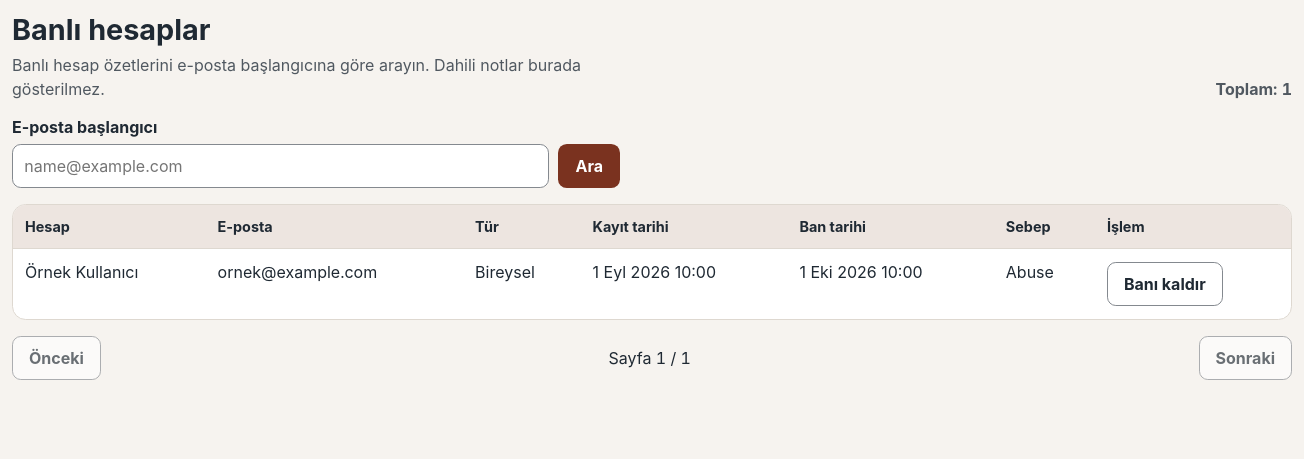
Test case: Admin banned accounts › reports a failed unban without losing the row
Click the button with aria-label "ornek@example.com hesabının banını kaldır". click: point(1165, 284)
box: [1107,262,1223,306]
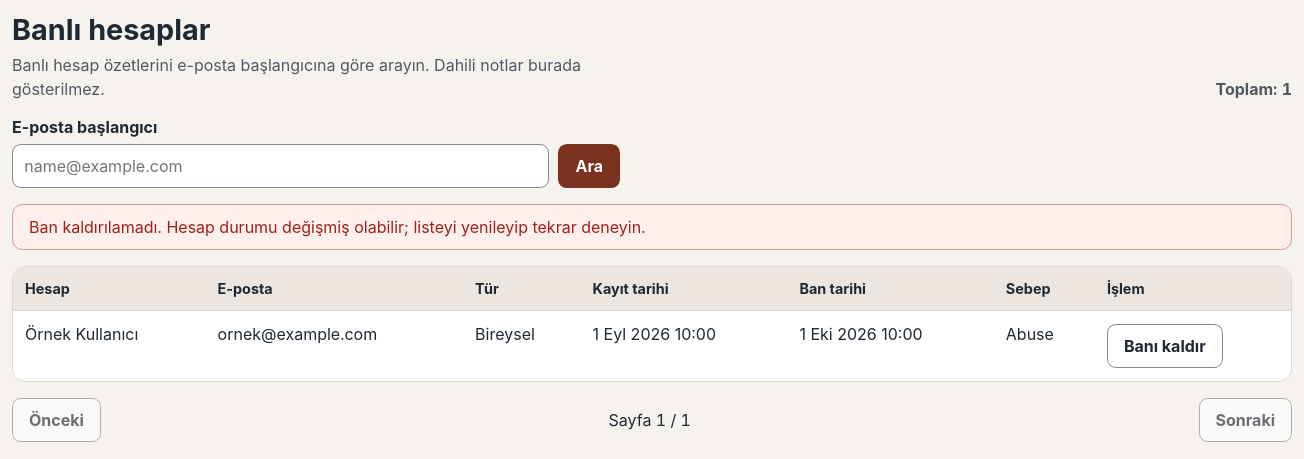
Expected: the text "ornek@example.com" is shown, [218,324,377,344]
Now the message shows "Ban kaldırılamadı", box [29,217,646,237]
